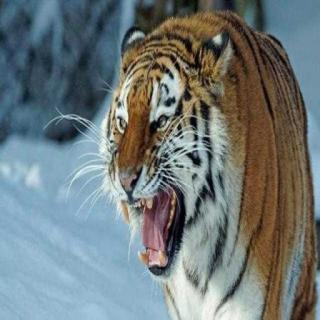Tiger: (84, 2, 320, 313)
